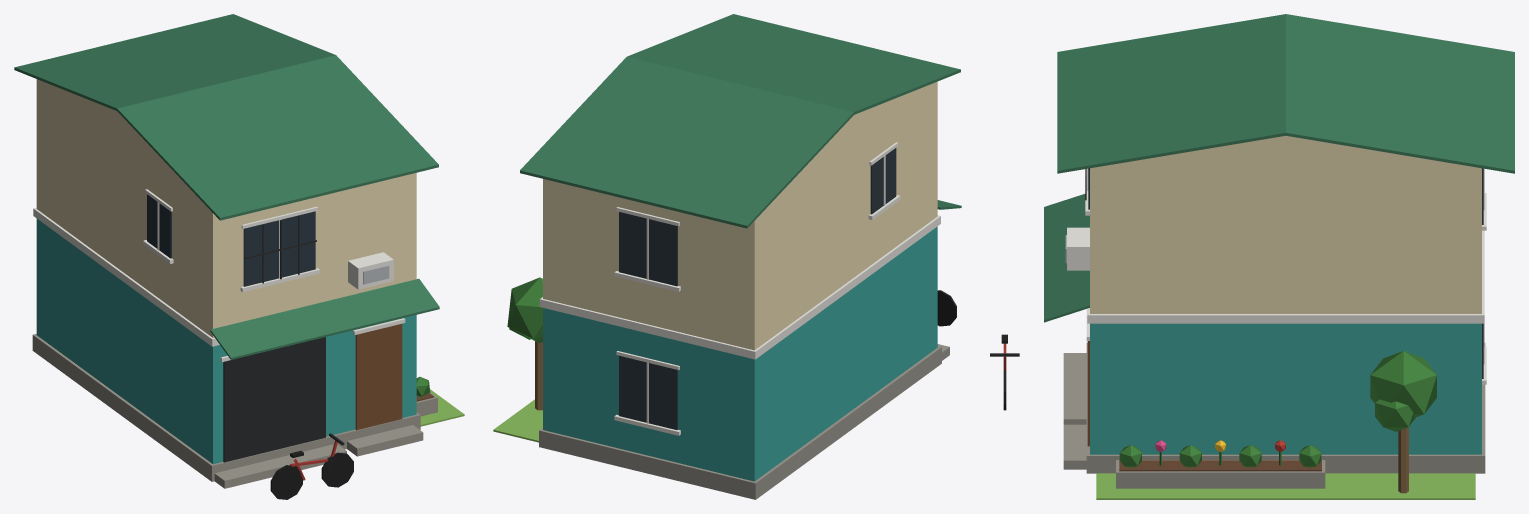
File: BAY_F_TwoStorey_Q.glb
3 renders of one model, left to right at view 1: azimuth 30°, elevation 25°; view 2: azimuth 150°, elevation 25°; view 3: azimuth 270°, elevation 25°, orthographic. The views are drawn at different scales.
Visible parts, largest first — view 1: BAY_F_TwoStorey_Q; view 2: BAY_F_TwoStorey_Q; view 3: BAY_F_TwoStorey_Q.
Boxes of the visible parts, <box> form: BAY_F_TwoStorey_Q: <box>14,14,464,499</box>; BAY_F_TwoStorey_Q: <box>493,14,961,499</box>; BAY_F_TwoStorey_Q: <box>990,14,1514,499</box>.
Size of the model in its own units: 5.5 by 5.8 by 8.03.
Materials: 1 (1 with a texture image).
